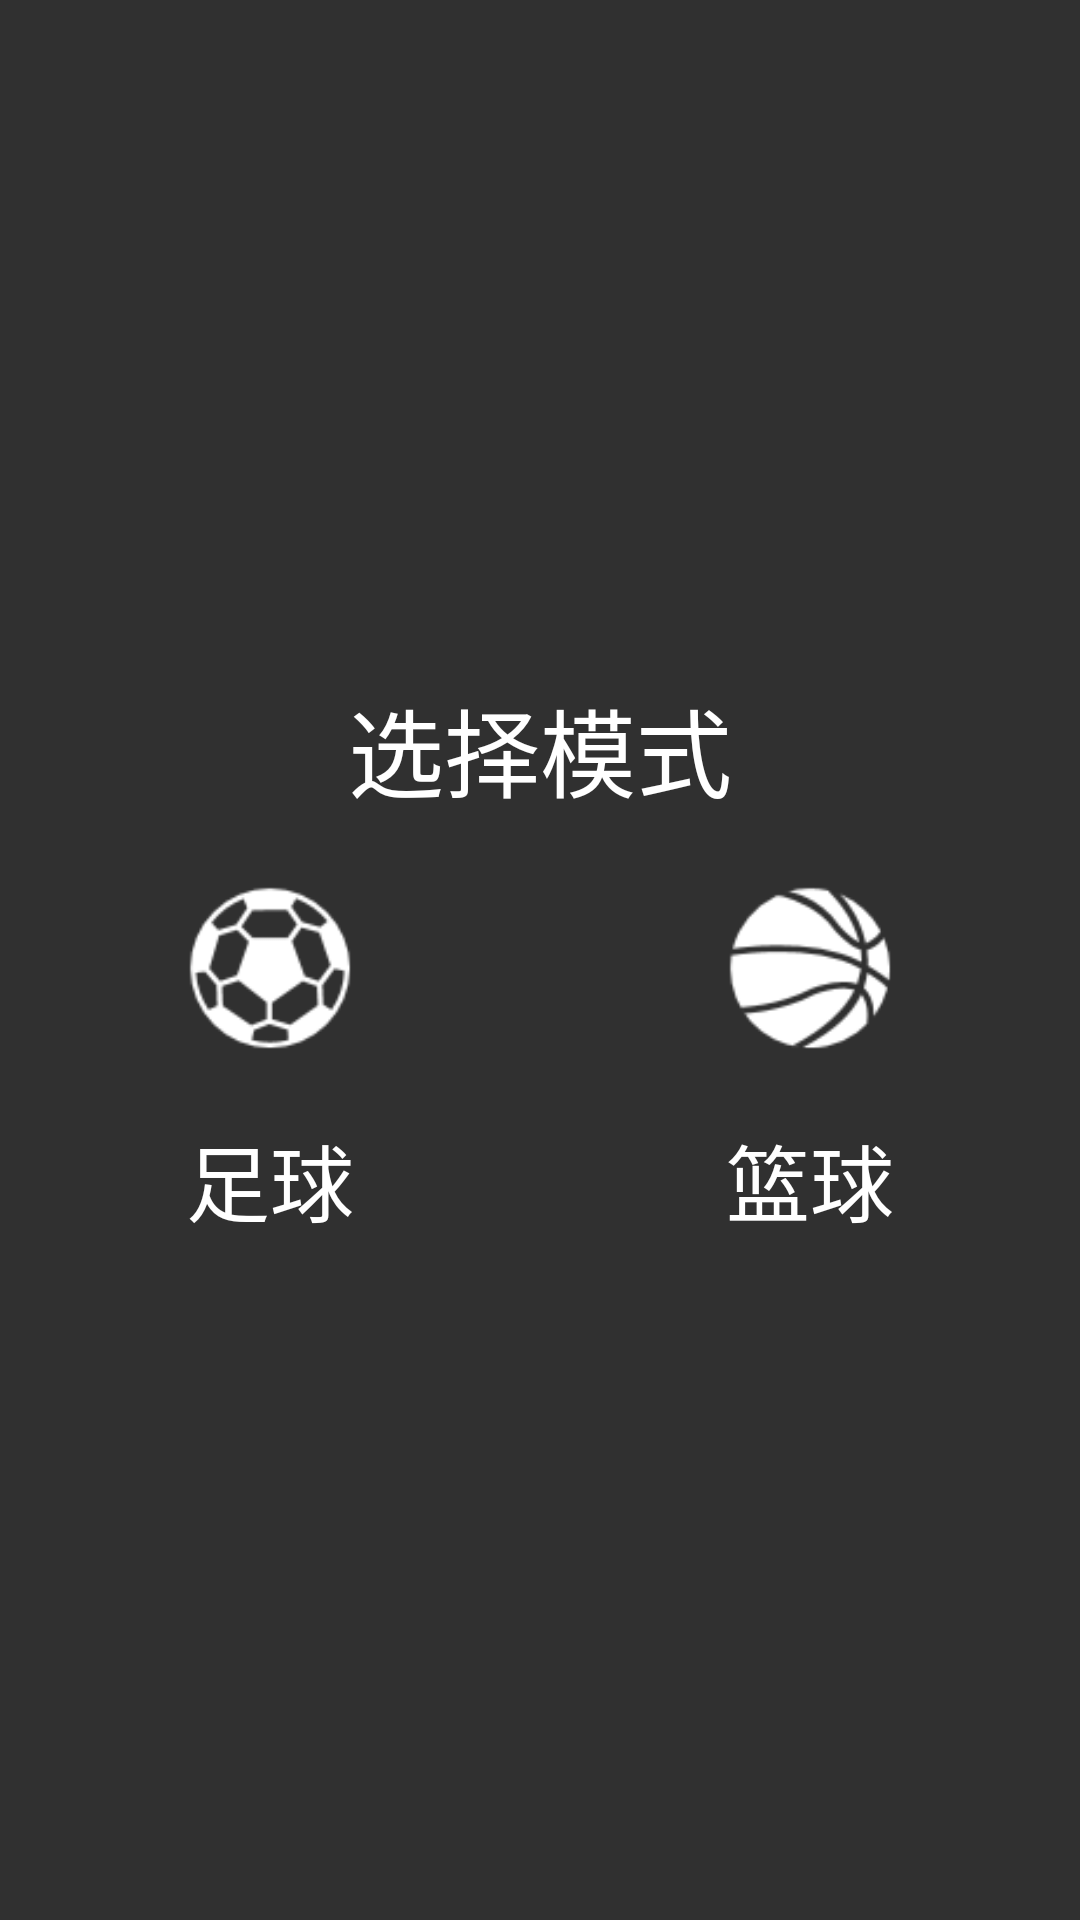

Screen size 1080px×1920px. Icon name, then its center in pixels as (x,y):
basketball unselect: (810,968)
football unselect: (270,968)
